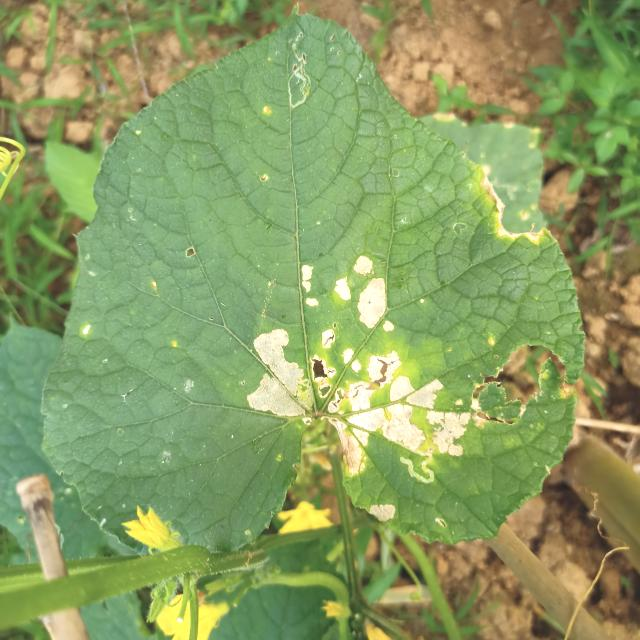disease_cucumber: (238, 248, 476, 475)
